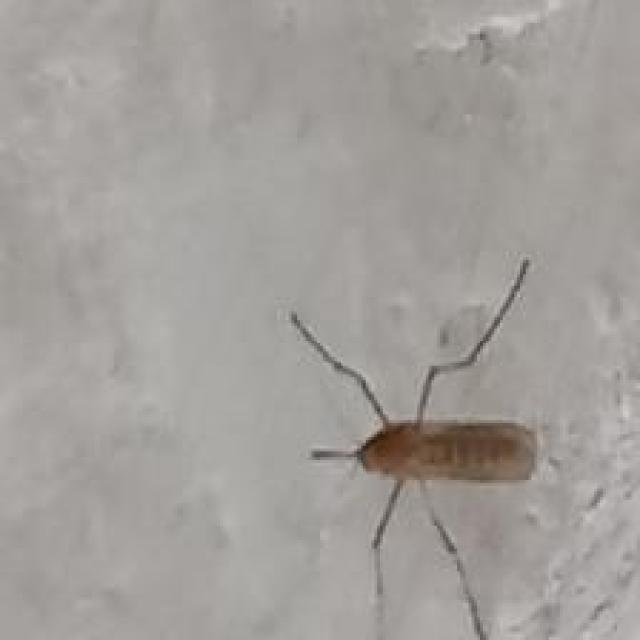Culex: (287, 257, 542, 640)
